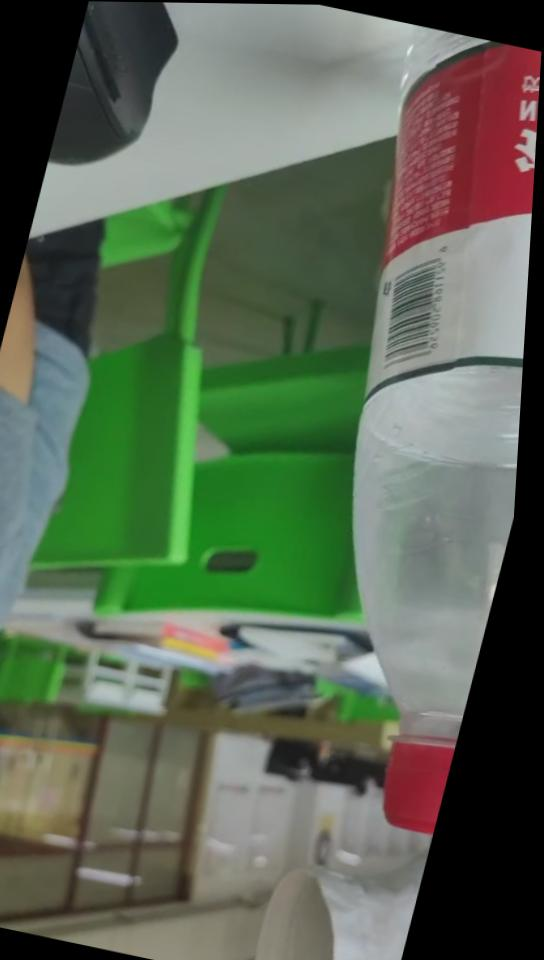plastic: (264, 0, 543, 959)
